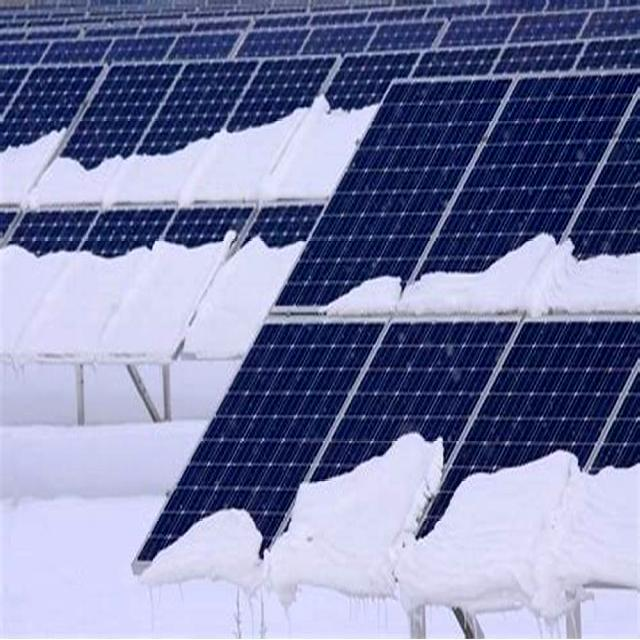panel: (515, 226, 640, 324), (407, 254, 545, 339), (11, 308, 148, 376), (178, 487, 278, 579), (224, 107, 326, 197), (405, 466, 516, 548), (562, 405, 640, 516), (294, 466, 366, 578), (90, 307, 228, 364), (285, 92, 382, 171), (364, 417, 452, 502), (488, 438, 588, 507), (242, 227, 314, 303), (306, 268, 400, 326), (176, 124, 256, 188), (0, 122, 64, 202), (108, 134, 180, 195), (2, 233, 68, 286), (177, 227, 232, 290), (55, 146, 116, 202), (84, 238, 162, 273), (153, 536, 178, 586)
